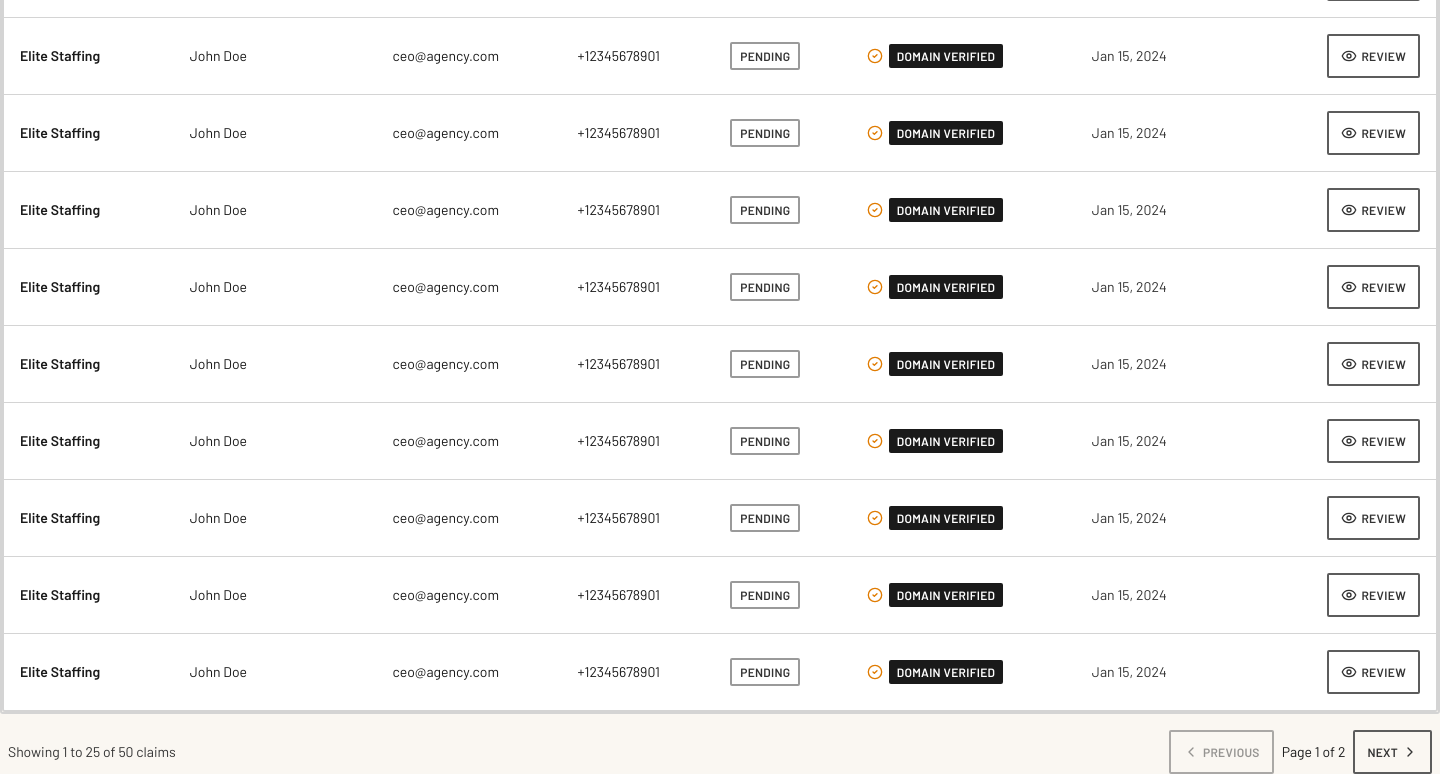
Test: ClaimsTable › Pagination › should navigate to previous page when Previous button is clicked
(page scrolled)
Expected: the text "Page 1 of 2" is shown, [1282,742,1345,762]
// Click Next to go to page 2
Click the button "Next" at (1393, 752), box [1353,730,1432,773]
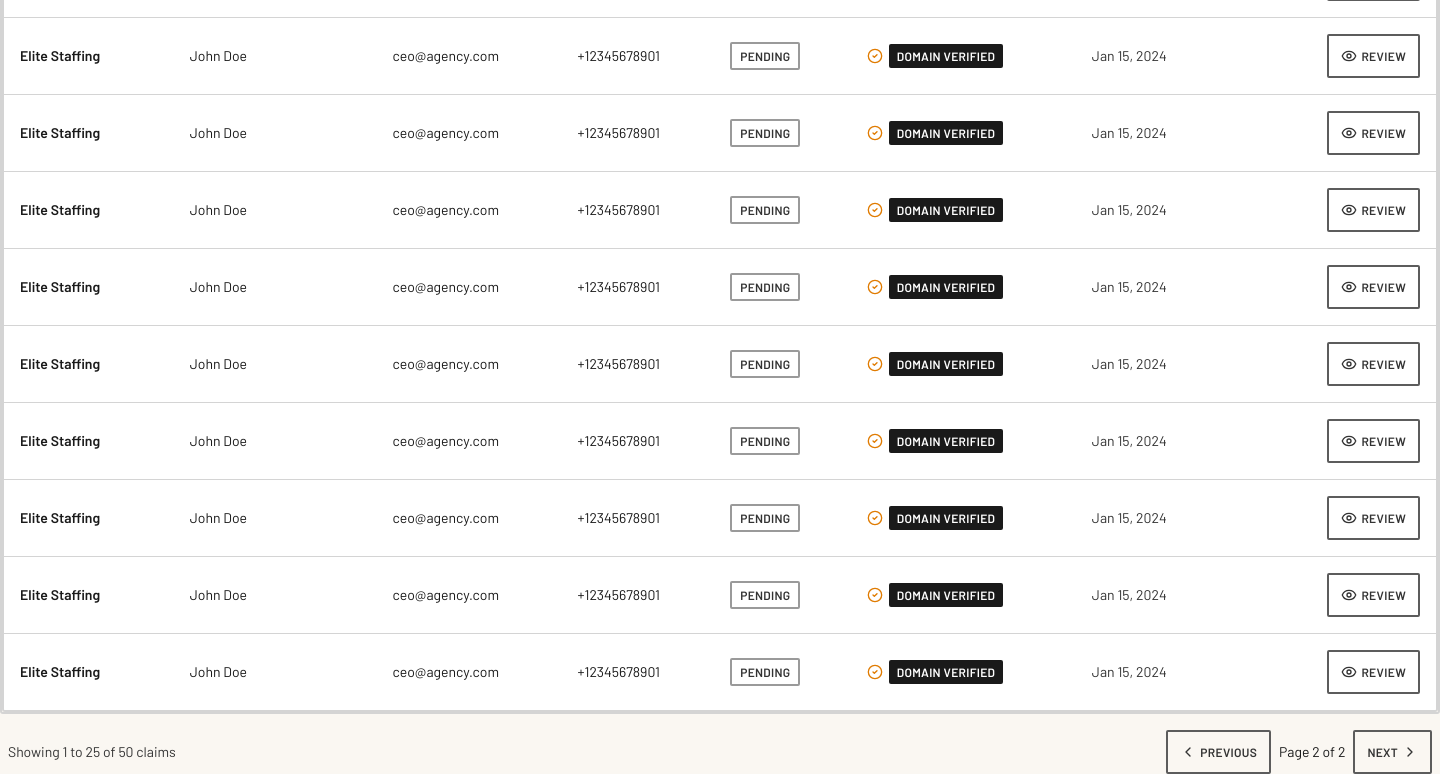
Expected: the text "Page 2 of 2" is shown, [1279,742,1345,762]
// Click Previous to go back to page 1
Click the button "Previous" at (1219, 752), box [1166,730,1271,773]
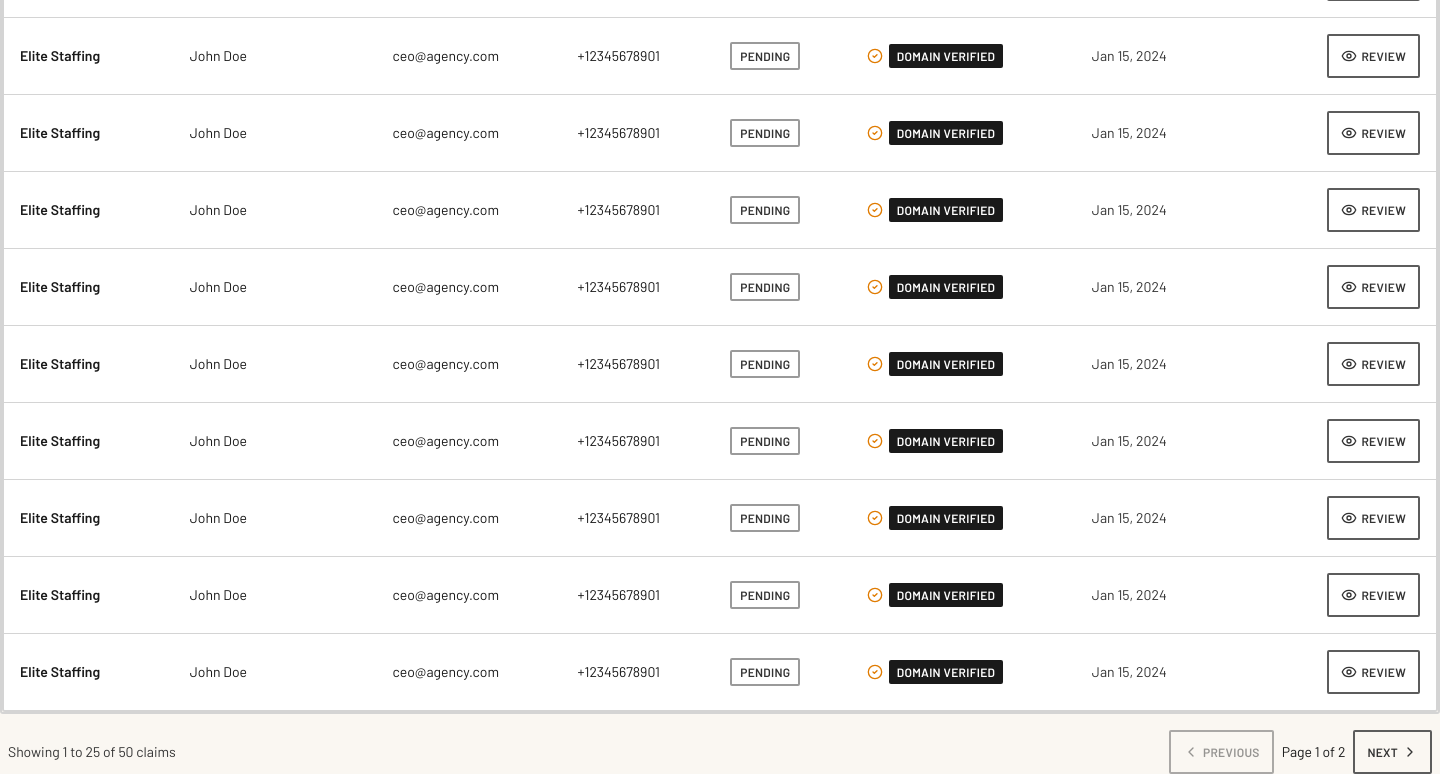
Expected: the text "Page 1 of 2" is shown, [1282,742,1345,762]
